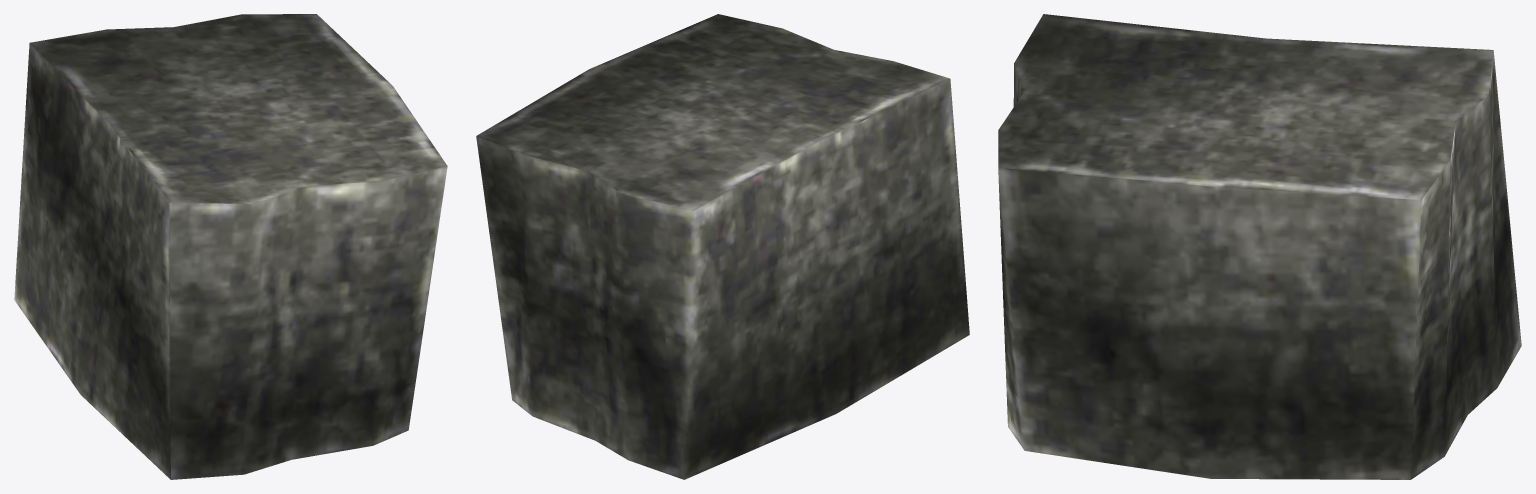
Rendered from Stones_19.fbx.
3 renders of one model, left to right at view 1: azimuth 30°, elevation 25°; view 2: azimuth 150°, elevation 25°; view 3: azimuth 270°, elevation 25°, orthographic. The views are drawn at different scales.
Visible parts, largest first — view 1: Stones_19; view 2: Stones_19; view 3: Stones_19.
Boxes of the visible parts, x1=… form: Stones_19: x1=14, y1=14, x2=447, y2=479; Stones_19: x1=476, y1=14, x2=969, y2=479; Stones_19: x1=998, y1=14, x2=1521, y2=479.
Size of the model in its own units: 72.6 by 59.27 by 90.43.
